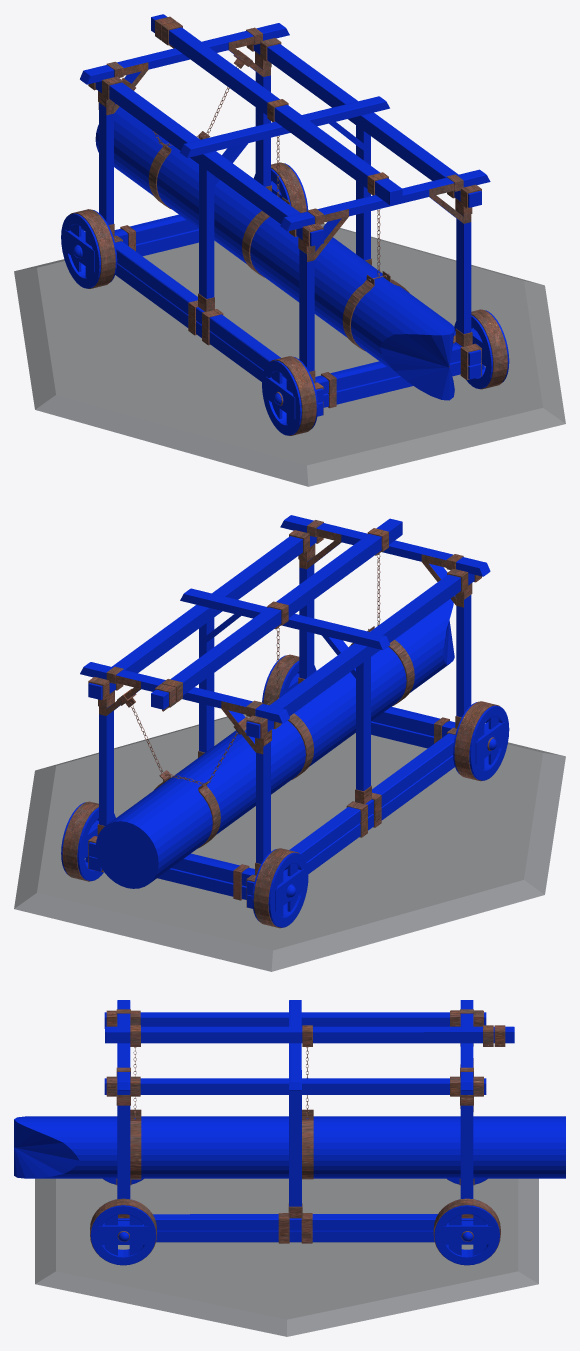
File: Siege  Melee.fbx
3 renders of one model, top to bottom at view 1: azimuth 30°, elevation 25°; view 2: azimuth 150°, elevation 25°; view 3: azimuth 270°, elevation 25°, orthographic. The views are drawn at different scales.
Visible parts, largest first — view 1: Piece Base.003; view 2: Piece Base.003; view 3: Piece Base.003.
Boxes of the visible parts, left/top/right/bottom form: Piece Base.003: left=14, top=14, right=565, bottom=486; Piece Base.003: left=14, top=515, right=565, bottom=971; Piece Base.003: left=14, top=1000, right=565, bottom=1336.
Bounding box in the file's own units: 148 × 65.34 × 162.
